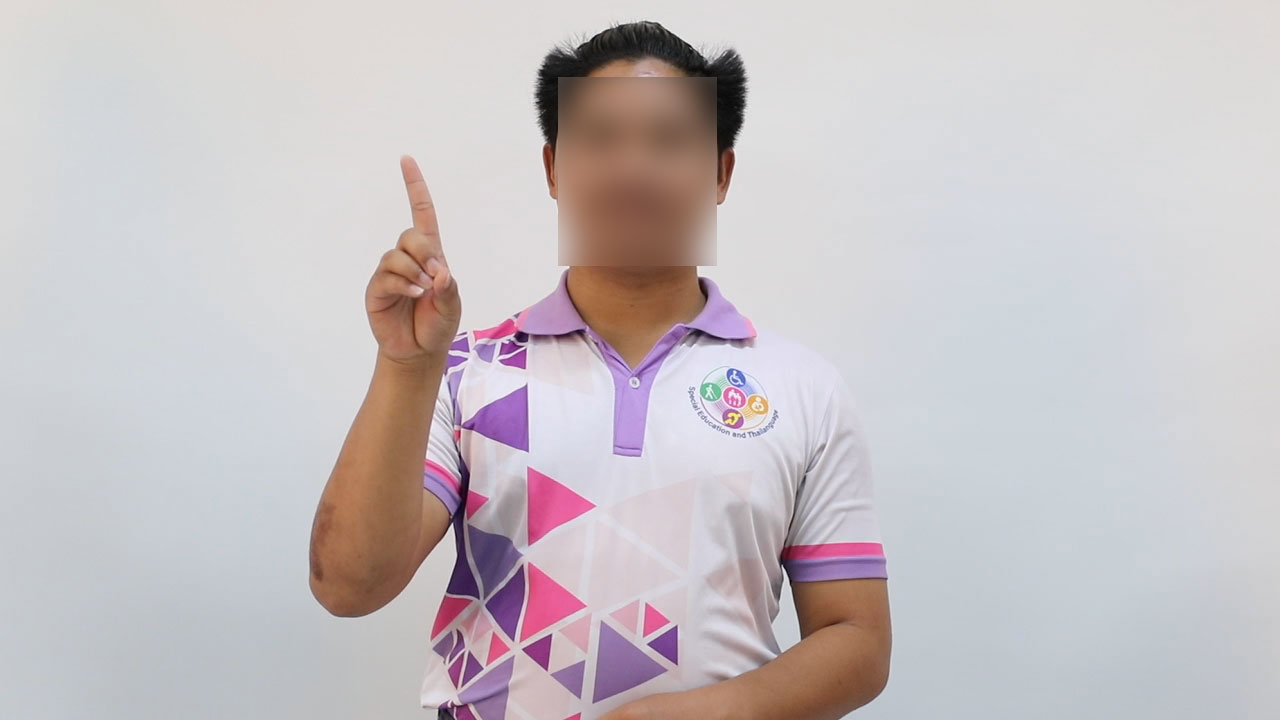dor: (351, 142, 474, 374)
